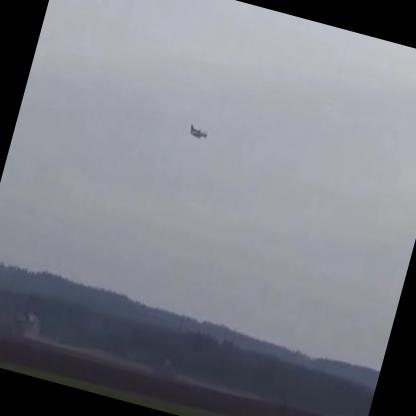plane: (188, 124, 210, 141)
